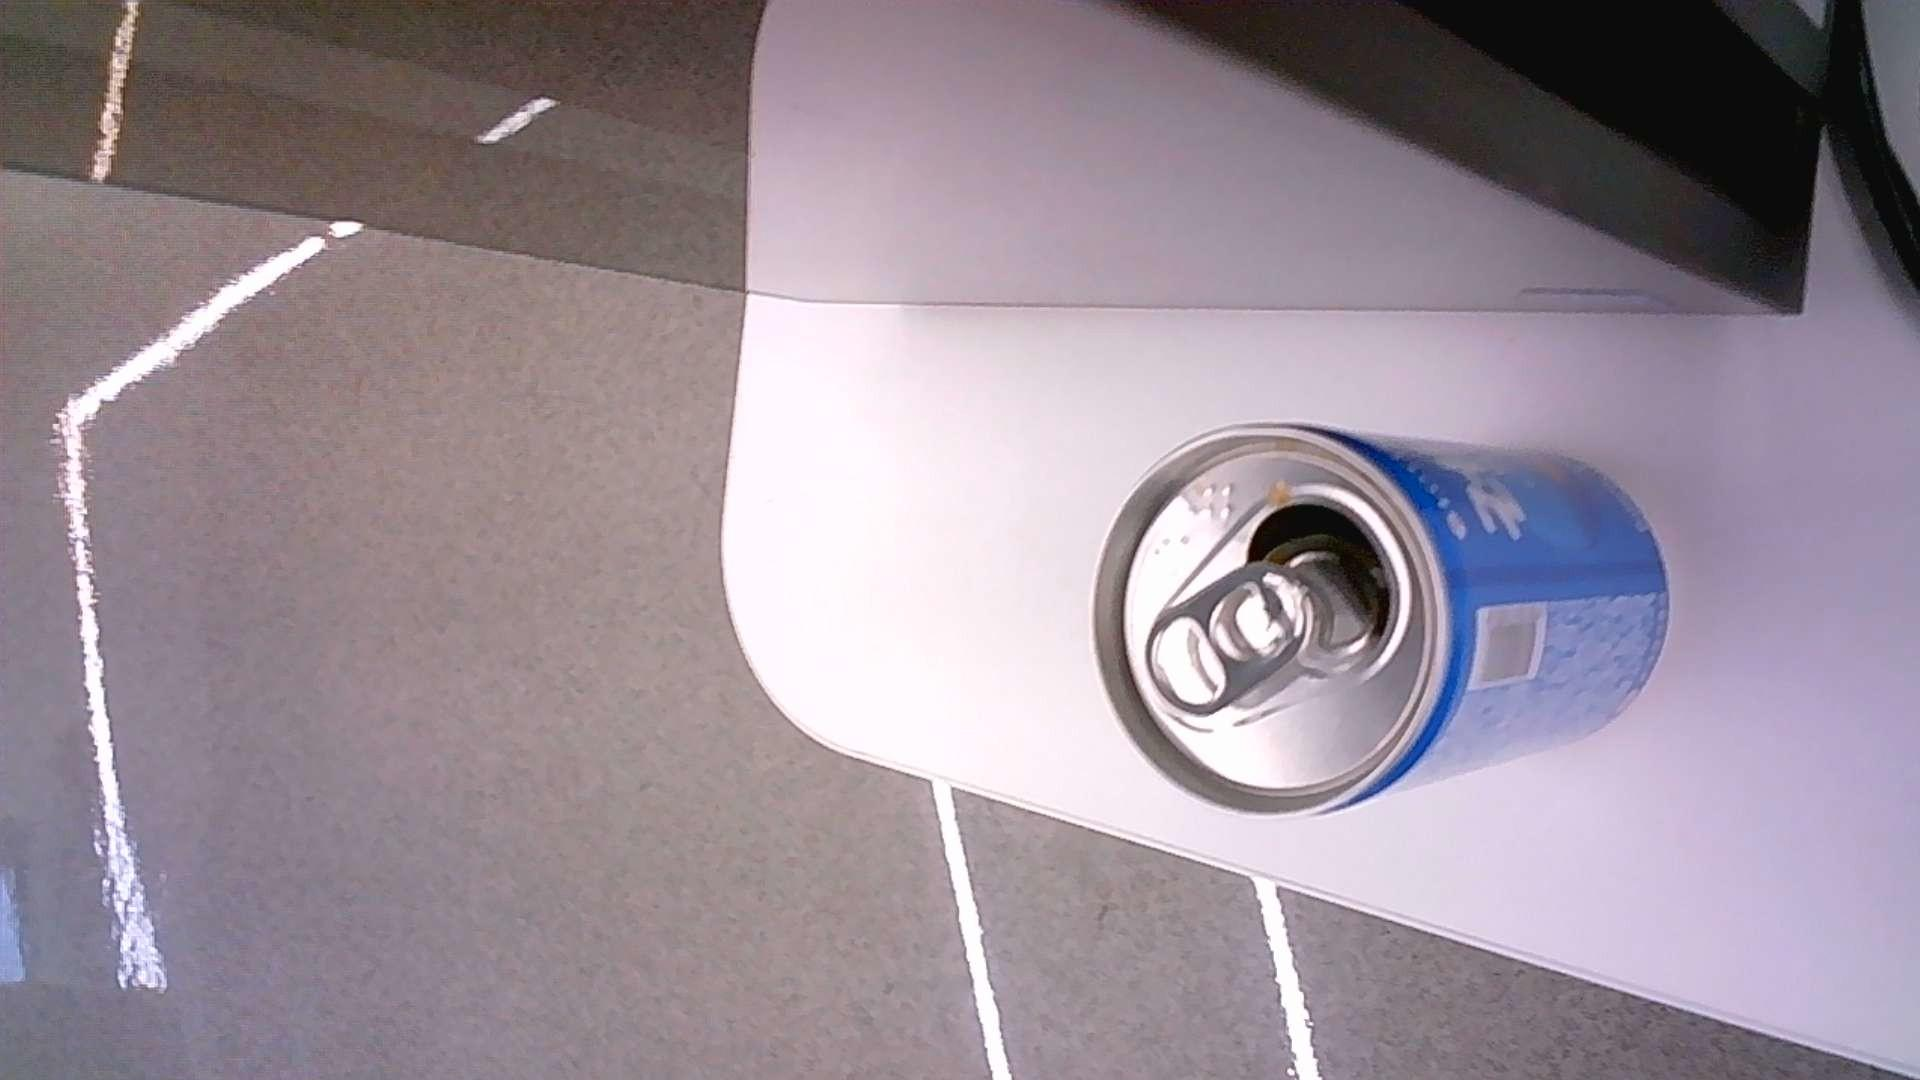letsbe: (1087, 419, 1671, 819)
